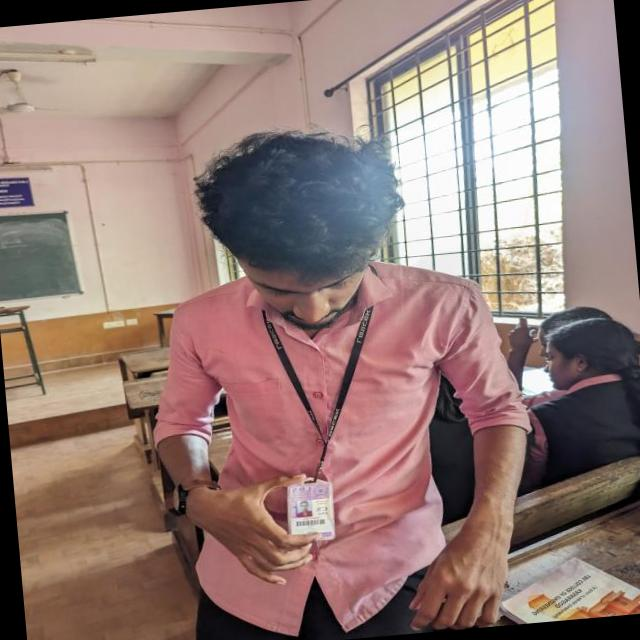id_card: (258, 273, 390, 546)
